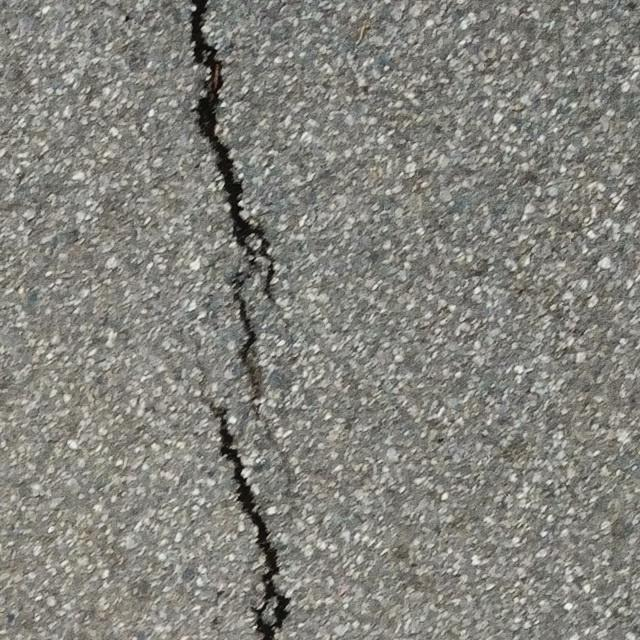LongitudinalCrack: (185, 1, 291, 365), (206, 400, 291, 640)
